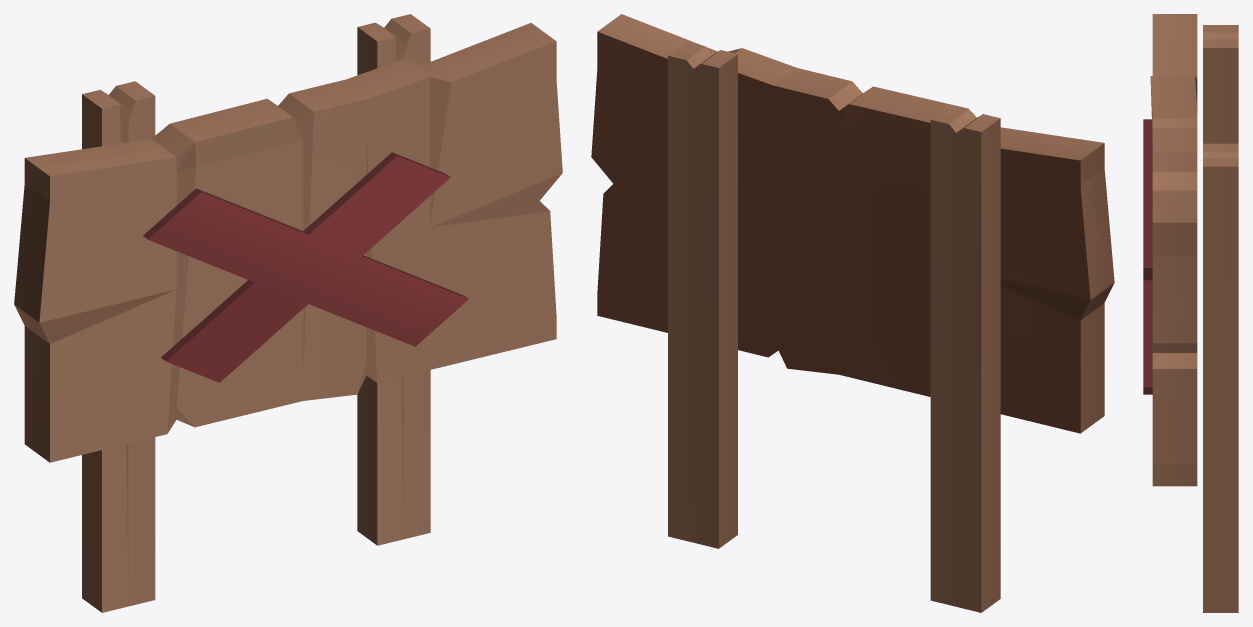
Rendered from Prop_Placa.fbx.
The picture shows the model from 3 angles, left to right: view 1: azimuth 30°, elevation 25°; view 2: azimuth 150°, elevation 25°; view 3: azimuth 270°, elevation 25°; orthographic projection. The views are drawn at different scales.
Parts seen in each view (by area): view 1: Prop_Placa; view 2: Prop_Placa; view 3: Prop_Placa.
Part boxes in pixels (x1,y1,x2,y2): Prop_Placa: [14, 14, 562, 612]; Prop_Placa: [591, 14, 1114, 612]; Prop_Placa: [1143, 14, 1238, 612].
Size of the model in its own units: 2.44 by 2.25 by 0.4344.
